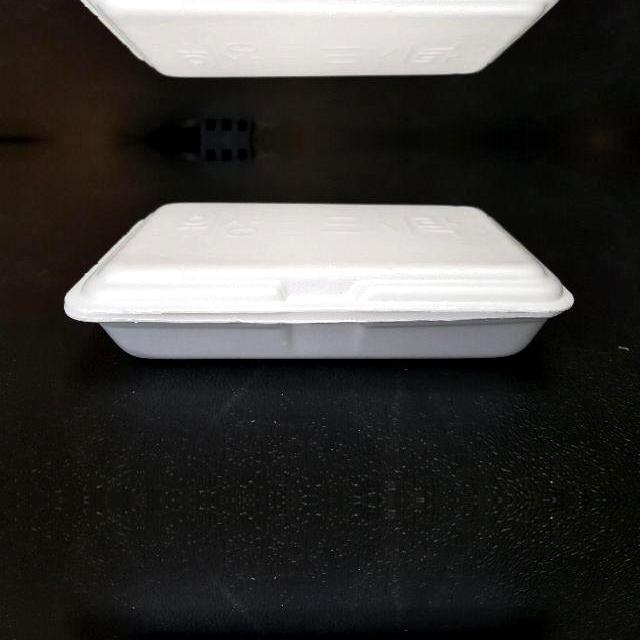Styrofoam: (63, 202, 575, 360), (63, 202, 574, 358), (63, 0, 575, 77), (79, 0, 560, 78)
